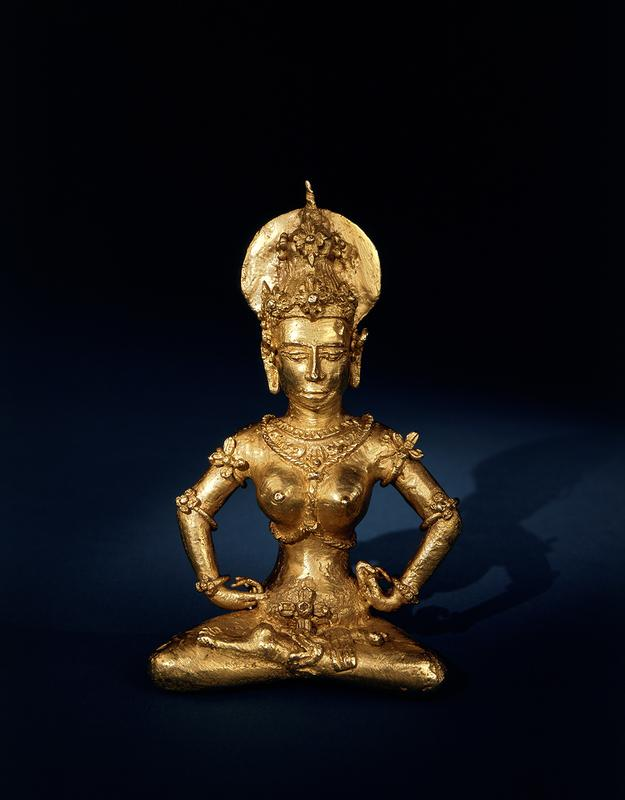golden_tara_of_agusan: (127, 181, 479, 696)
